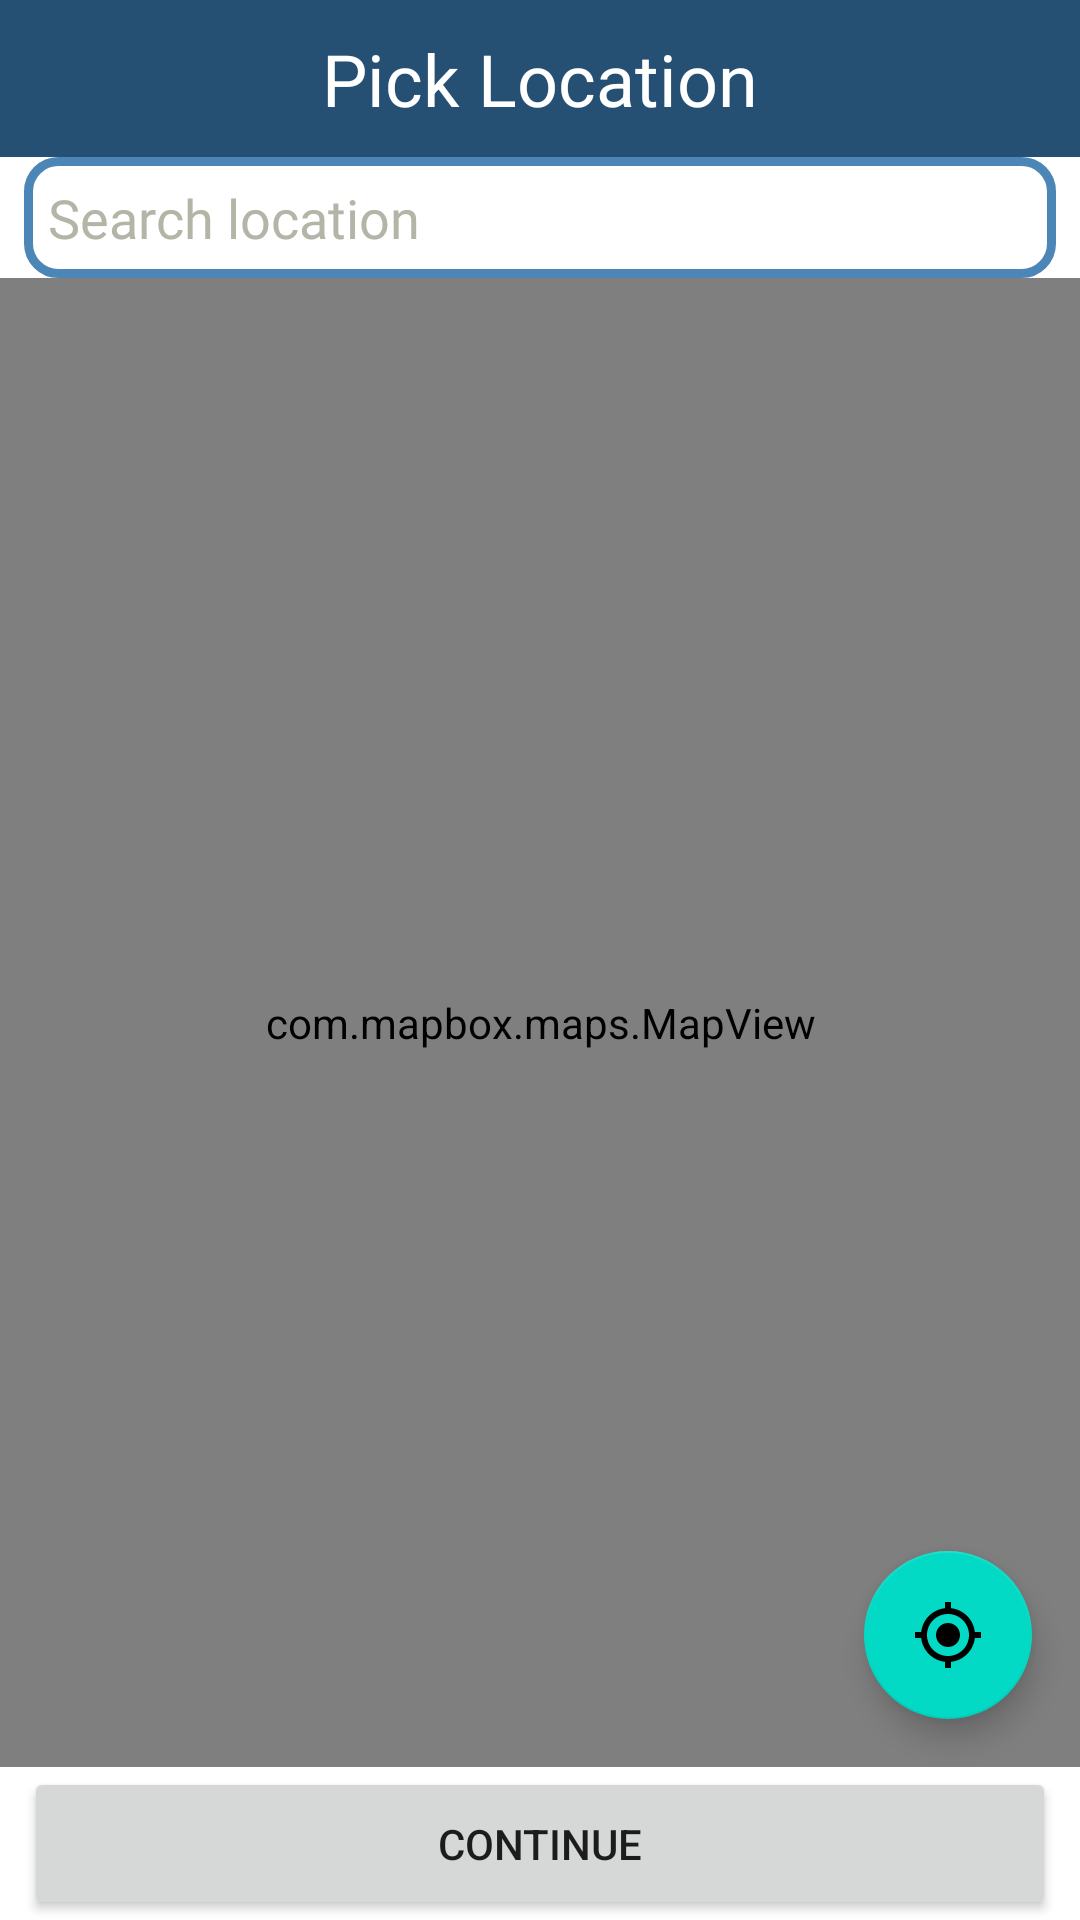

Named icons in this screenshot (1080 x 1920) and their bounding boxes, (x1, y1, x2, y2):
location: (864, 1551, 1032, 1719)
